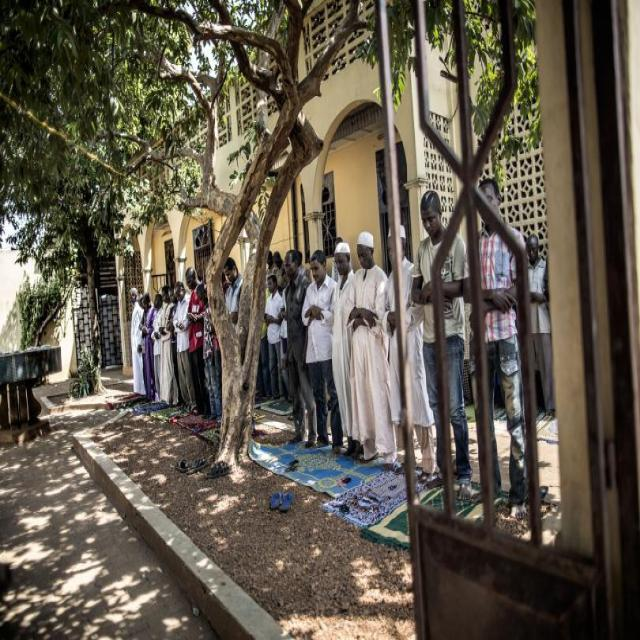body: (468, 174, 533, 522), (408, 187, 475, 505), (380, 220, 439, 486), (343, 230, 398, 470), (300, 247, 346, 458), (282, 248, 318, 450), (524, 231, 557, 427), (330, 240, 356, 458), (478, 313, 530, 410), (184, 264, 211, 422), (170, 280, 201, 415), (458, 229, 480, 405), (196, 282, 221, 424), (164, 283, 186, 410), (264, 273, 285, 403), (209, 271, 226, 422), (136, 290, 156, 406), (128, 286, 148, 400), (157, 283, 175, 407), (150, 292, 168, 406), (139, 292, 156, 404), (222, 255, 245, 332), (279, 268, 292, 404), (258, 287, 272, 399), (261, 249, 275, 340), (543, 257, 556, 319), (271, 250, 289, 290), (330, 236, 343, 284), (297, 250, 314, 283)
